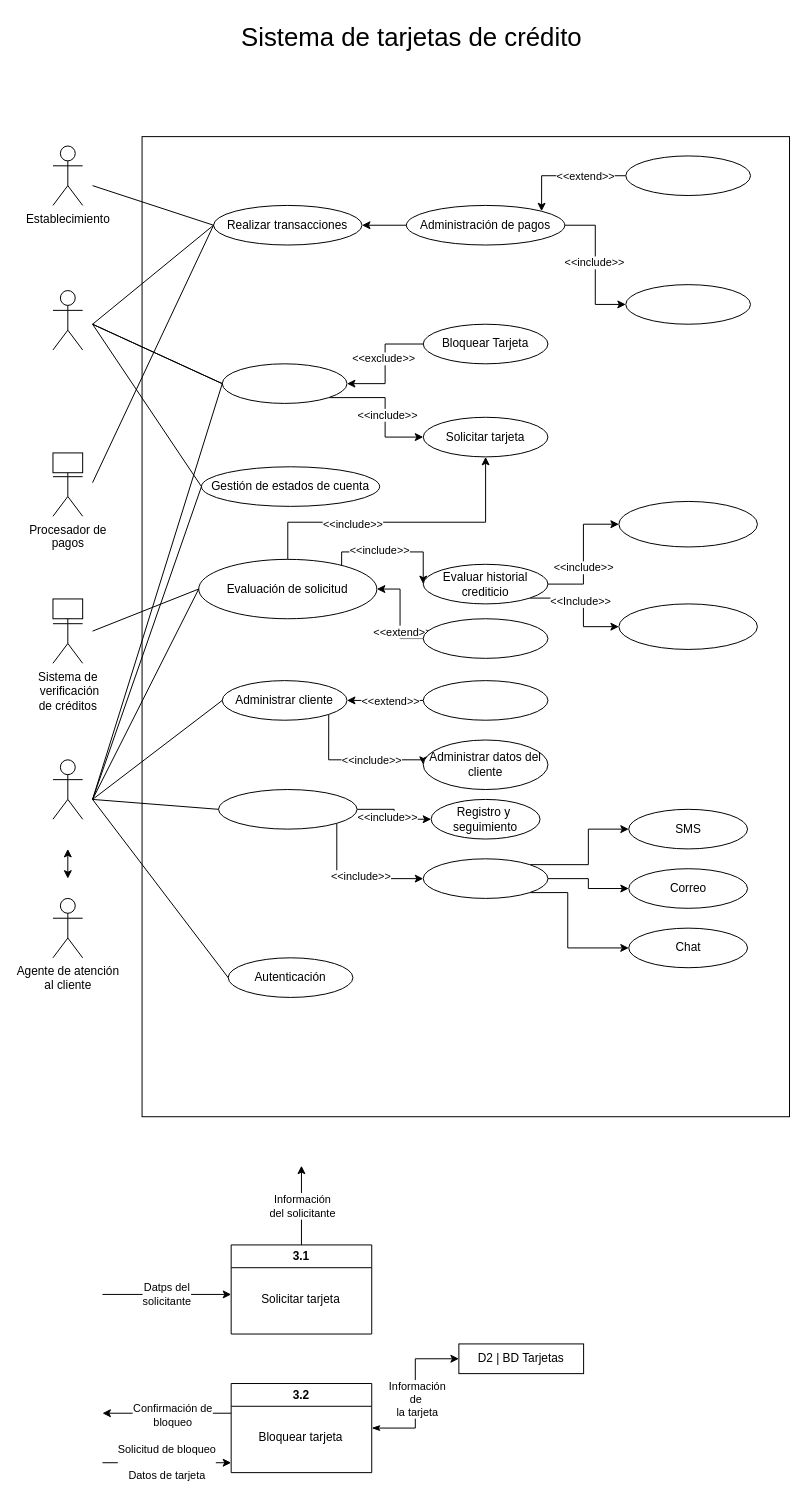
The diagram is 807 pixels wide and 1499 high, and some of its shapes have lost their labels. The centre of each missing label's shape, as x and y in pixels:
"Administrador" goes at pixel 67 789.
"Aprobación" goes at pixel 687 523.
"Asociar tarjetas" goes at pixel 485 700.
"Atención al cliente" goes at pixel 287 809.
"Aviso de atención al cliente" goes at pixel 485 878.
"Emisión de tarjeta Digital" goes at pixel 485 638.
"Gestión de mora" goes at pixel 688 175.
"Gestión de tarjeta" goes at pixel 284 383.
"Pagos automáticos" goes at pixel 688 304.
"Rechazo" goes at pixel 687 626.
"Titular de la tarjeta" goes at pixel 67 320.
